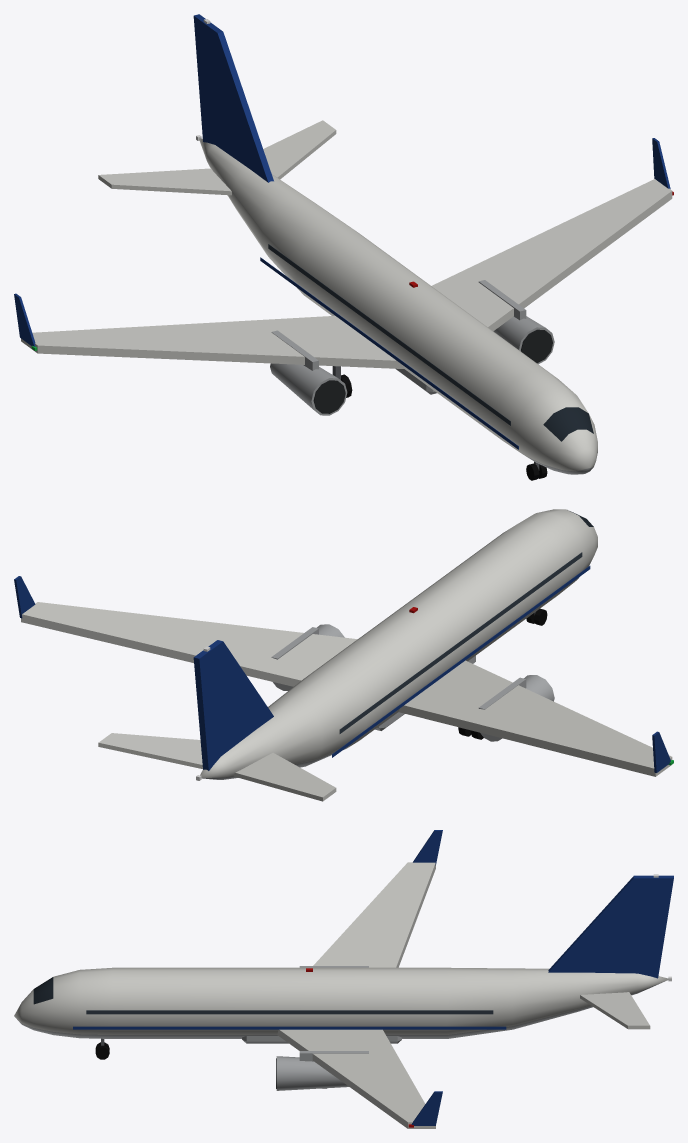
File: avion_moyen_courrier.glb
The picture shows the model from 3 angles, top to bottom: view 1: azimuth 30°, elevation 25°; view 2: azimuth 150°, elevation 25°; view 3: azimuth 270°, elevation 25°; orthographic projection. The views are drawn at different scales.
Parts seen in each view (by area): view 1: avion_moyen_courrier; view 2: avion_moyen_courrier; view 3: avion_moyen_courrier.
Boxes of the visible parts, box(x1,y1,x2,y2) form: avion_moyen_courrier: box(14, 14, 673, 480); avion_moyen_courrier: box(14, 509, 673, 801); avion_moyen_courrier: box(14, 830, 673, 1128).
Size of the model in its own units: 35.52 by 11.48 by 37.77.
